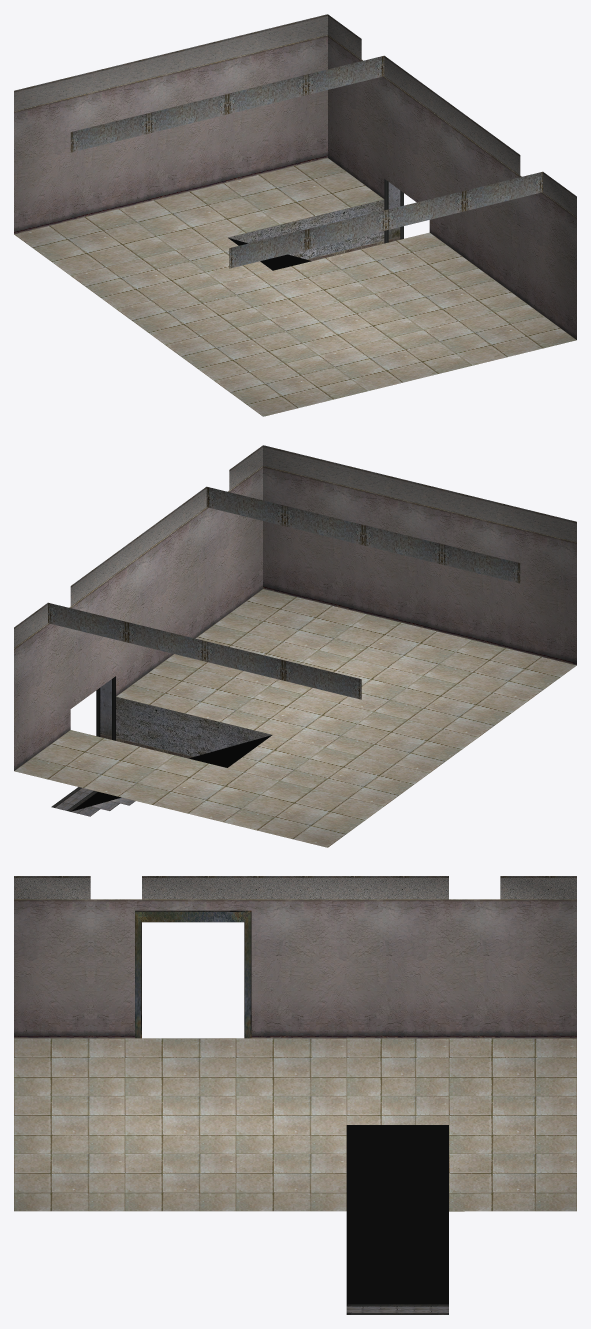
The model's file is M11Z2_SCUDHouse02_K.glb.
3 views of the same model, one above another, from view 1: azimuth 30°, elevation 25°; view 2: azimuth 150°, elevation 25°; view 3: azimuth 270°, elevation 25° (orthographic). The views are drawn at different scales.
Parts seen in each view (by area): view 1: M11Z2_SCUDHOUSE02_K; view 2: M11Z2_SCUDHOUSE02_K; view 3: M11Z2_SCUDHOUSE02_K.
Part boxes in pixels (x1,y1,x2,y2): M11Z2_SCUDHOUSE02_K: (14, 14, 576, 416); M11Z2_SCUDHOUSE02_K: (14, 445, 576, 847); M11Z2_SCUDHOUSE02_K: (14, 876, 576, 1314).
Size of the model in its own units: 8.5 by 5.5 by 11.
11 materials, 10 textured.
